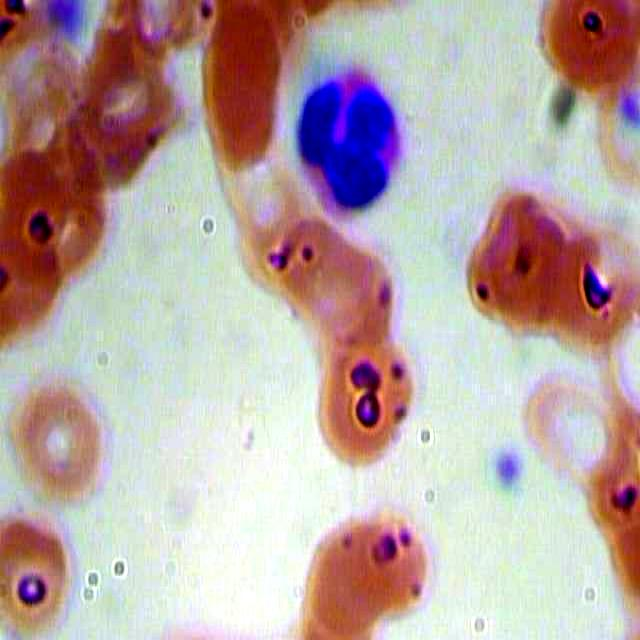Platelets: (485, 448, 524, 491)
RBC: (520, 356, 630, 495), (198, 1, 282, 178), (14, 367, 115, 508), (343, 488, 444, 629), (1, 498, 101, 640), (543, 210, 640, 346), (495, 193, 583, 336), (460, 195, 548, 337), (294, 514, 384, 640), (333, 331, 423, 456), (533, 1, 640, 99), (310, 244, 399, 355)
WBC: (282, 56, 413, 225)
